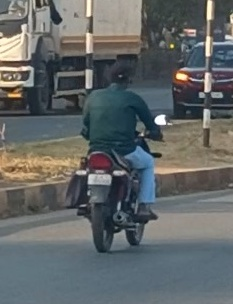BikeWithRider: (64, 58, 174, 253)
NoHelmet: (107, 59, 133, 90)
